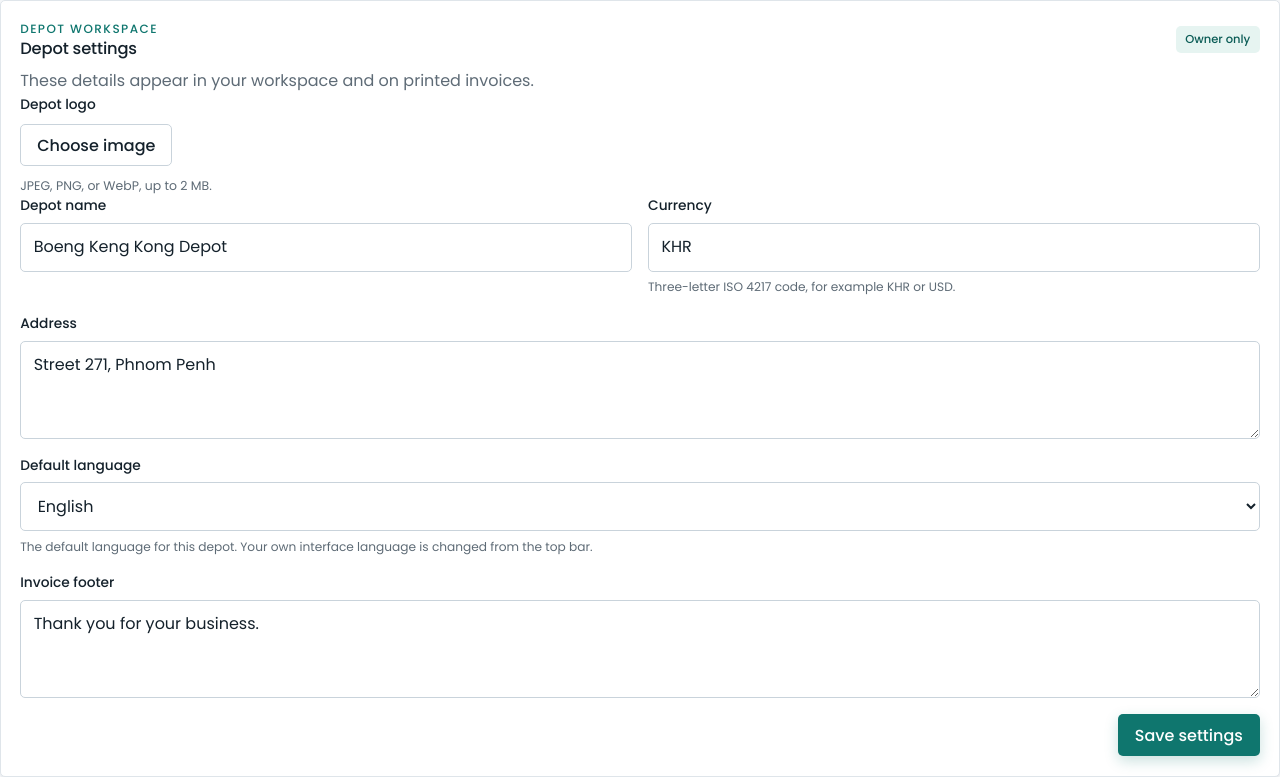
Test: DepotSettingsForm › lets the owner update the settings and refreshes the depot name
The image size is (1280, 777).
Replace the text in the field labelled "Depot name" with "Depot Renamed" at (326, 247), box [20,223,632,272]
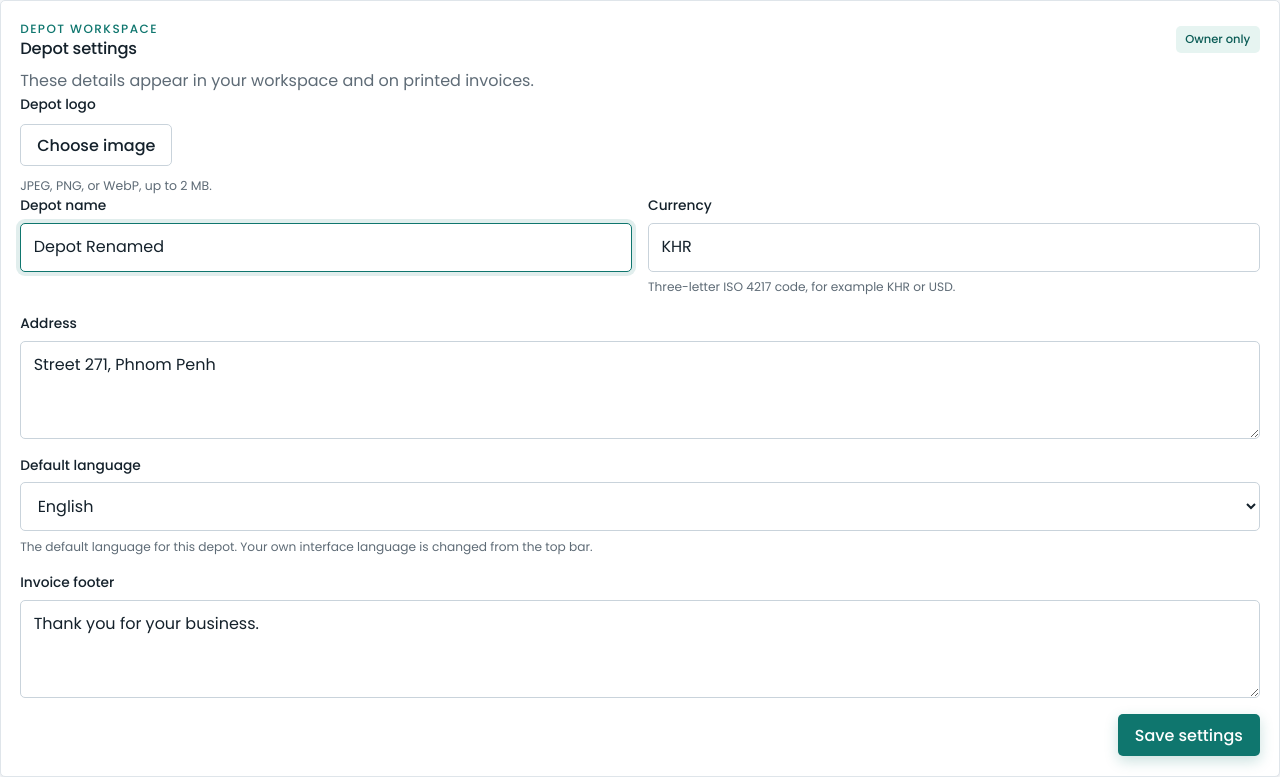
Click the button "Save settings" at (1189, 735), box [1118,714,1260,756]
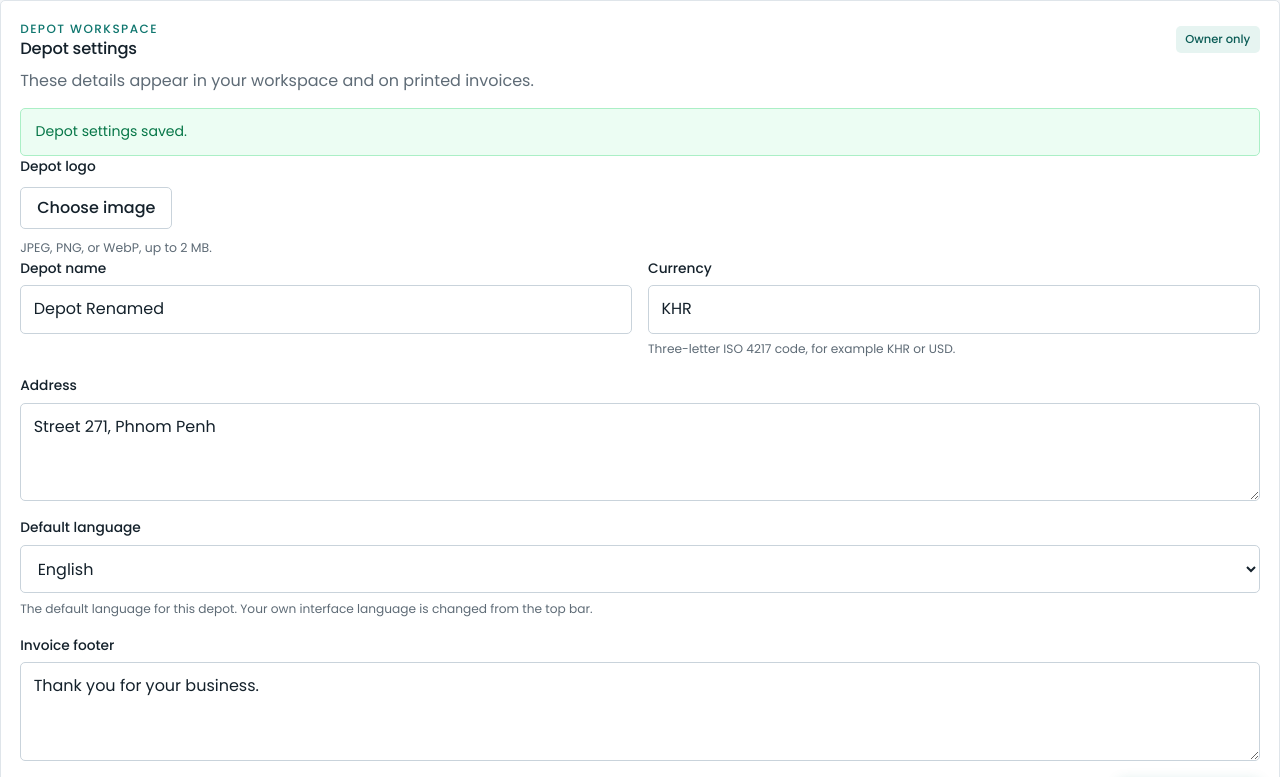
expect the text "Depot settings saved." is shown: met, box [20,108,1260,156]
